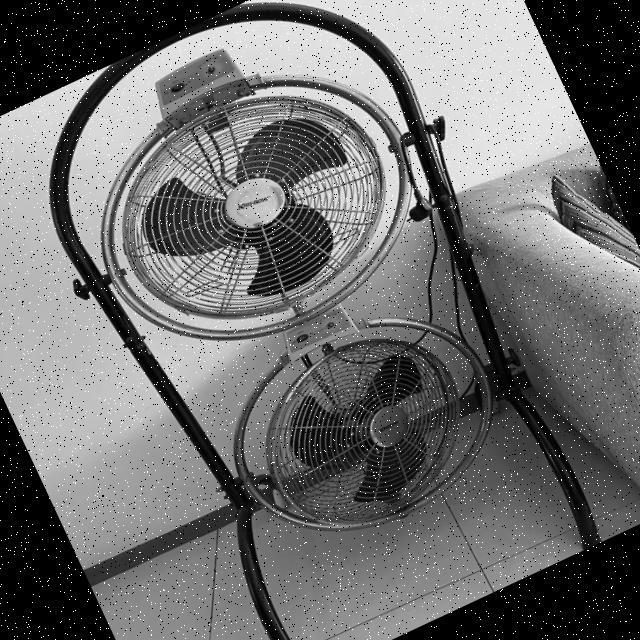fan: (45, 12, 471, 401), (144, 258, 570, 616)
